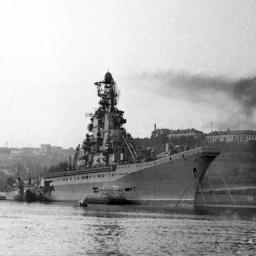Portanaves: (13, 65, 223, 212)
